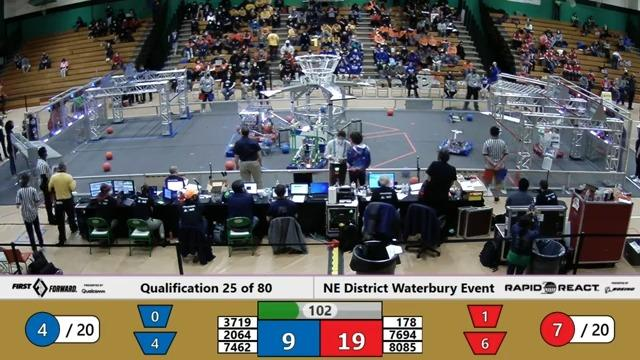robot: (288, 132, 331, 175), (239, 102, 281, 144), (532, 112, 568, 161), (224, 124, 265, 159), (436, 127, 478, 157)
